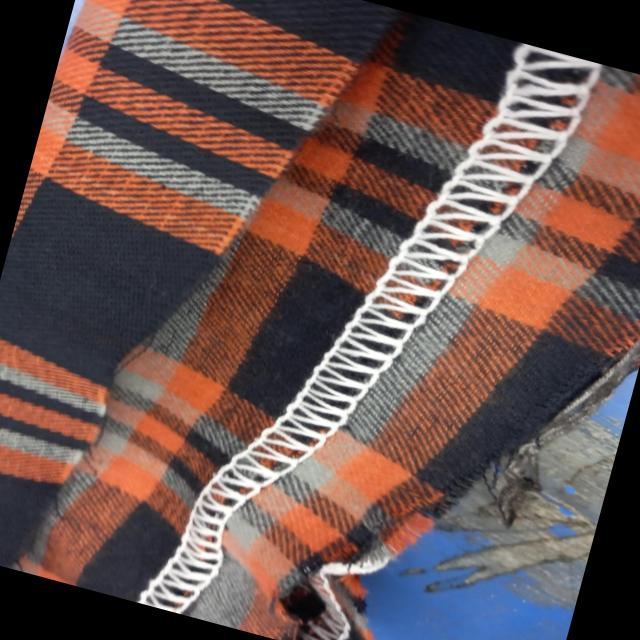gray stitch: (292, 9, 603, 454), (137, 373, 346, 640)
